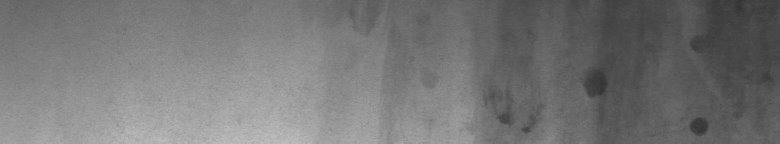fi: (349, 10, 612, 136)
